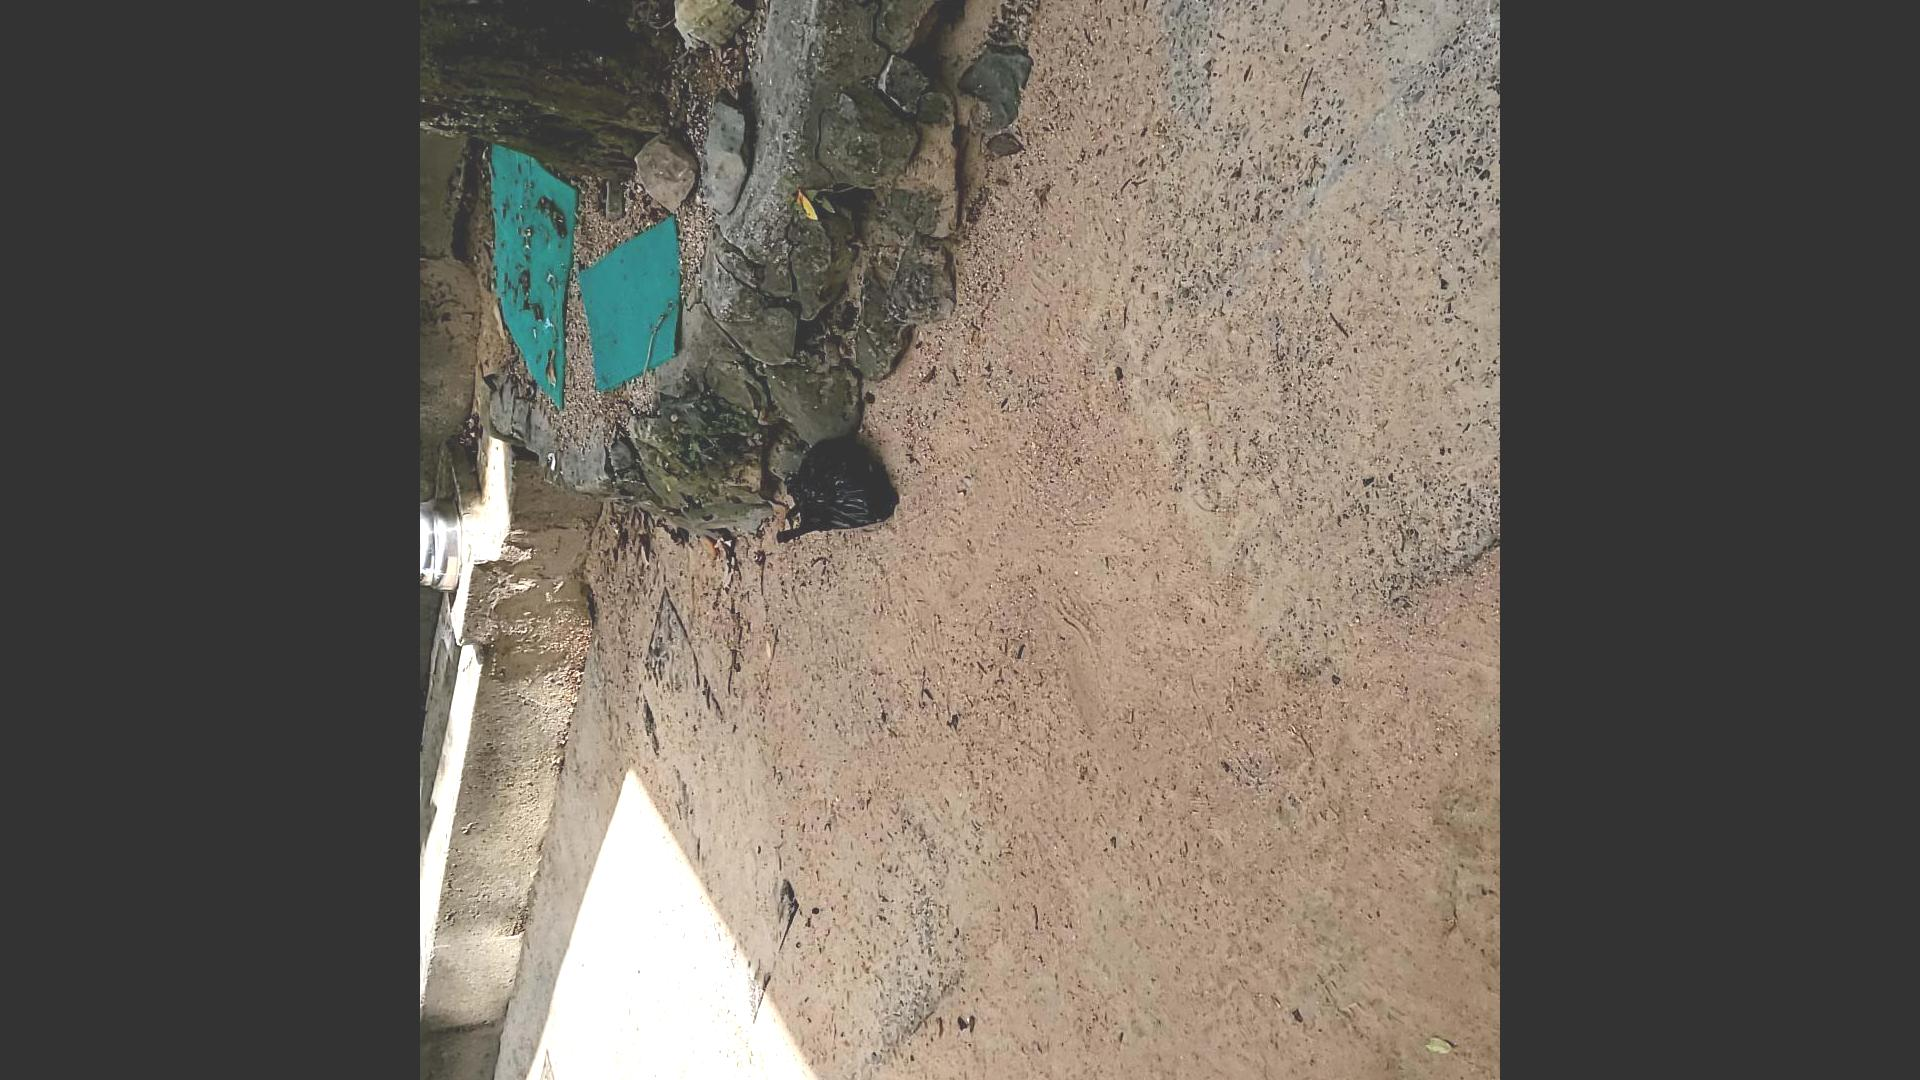black_bag: (767, 423, 899, 551)
